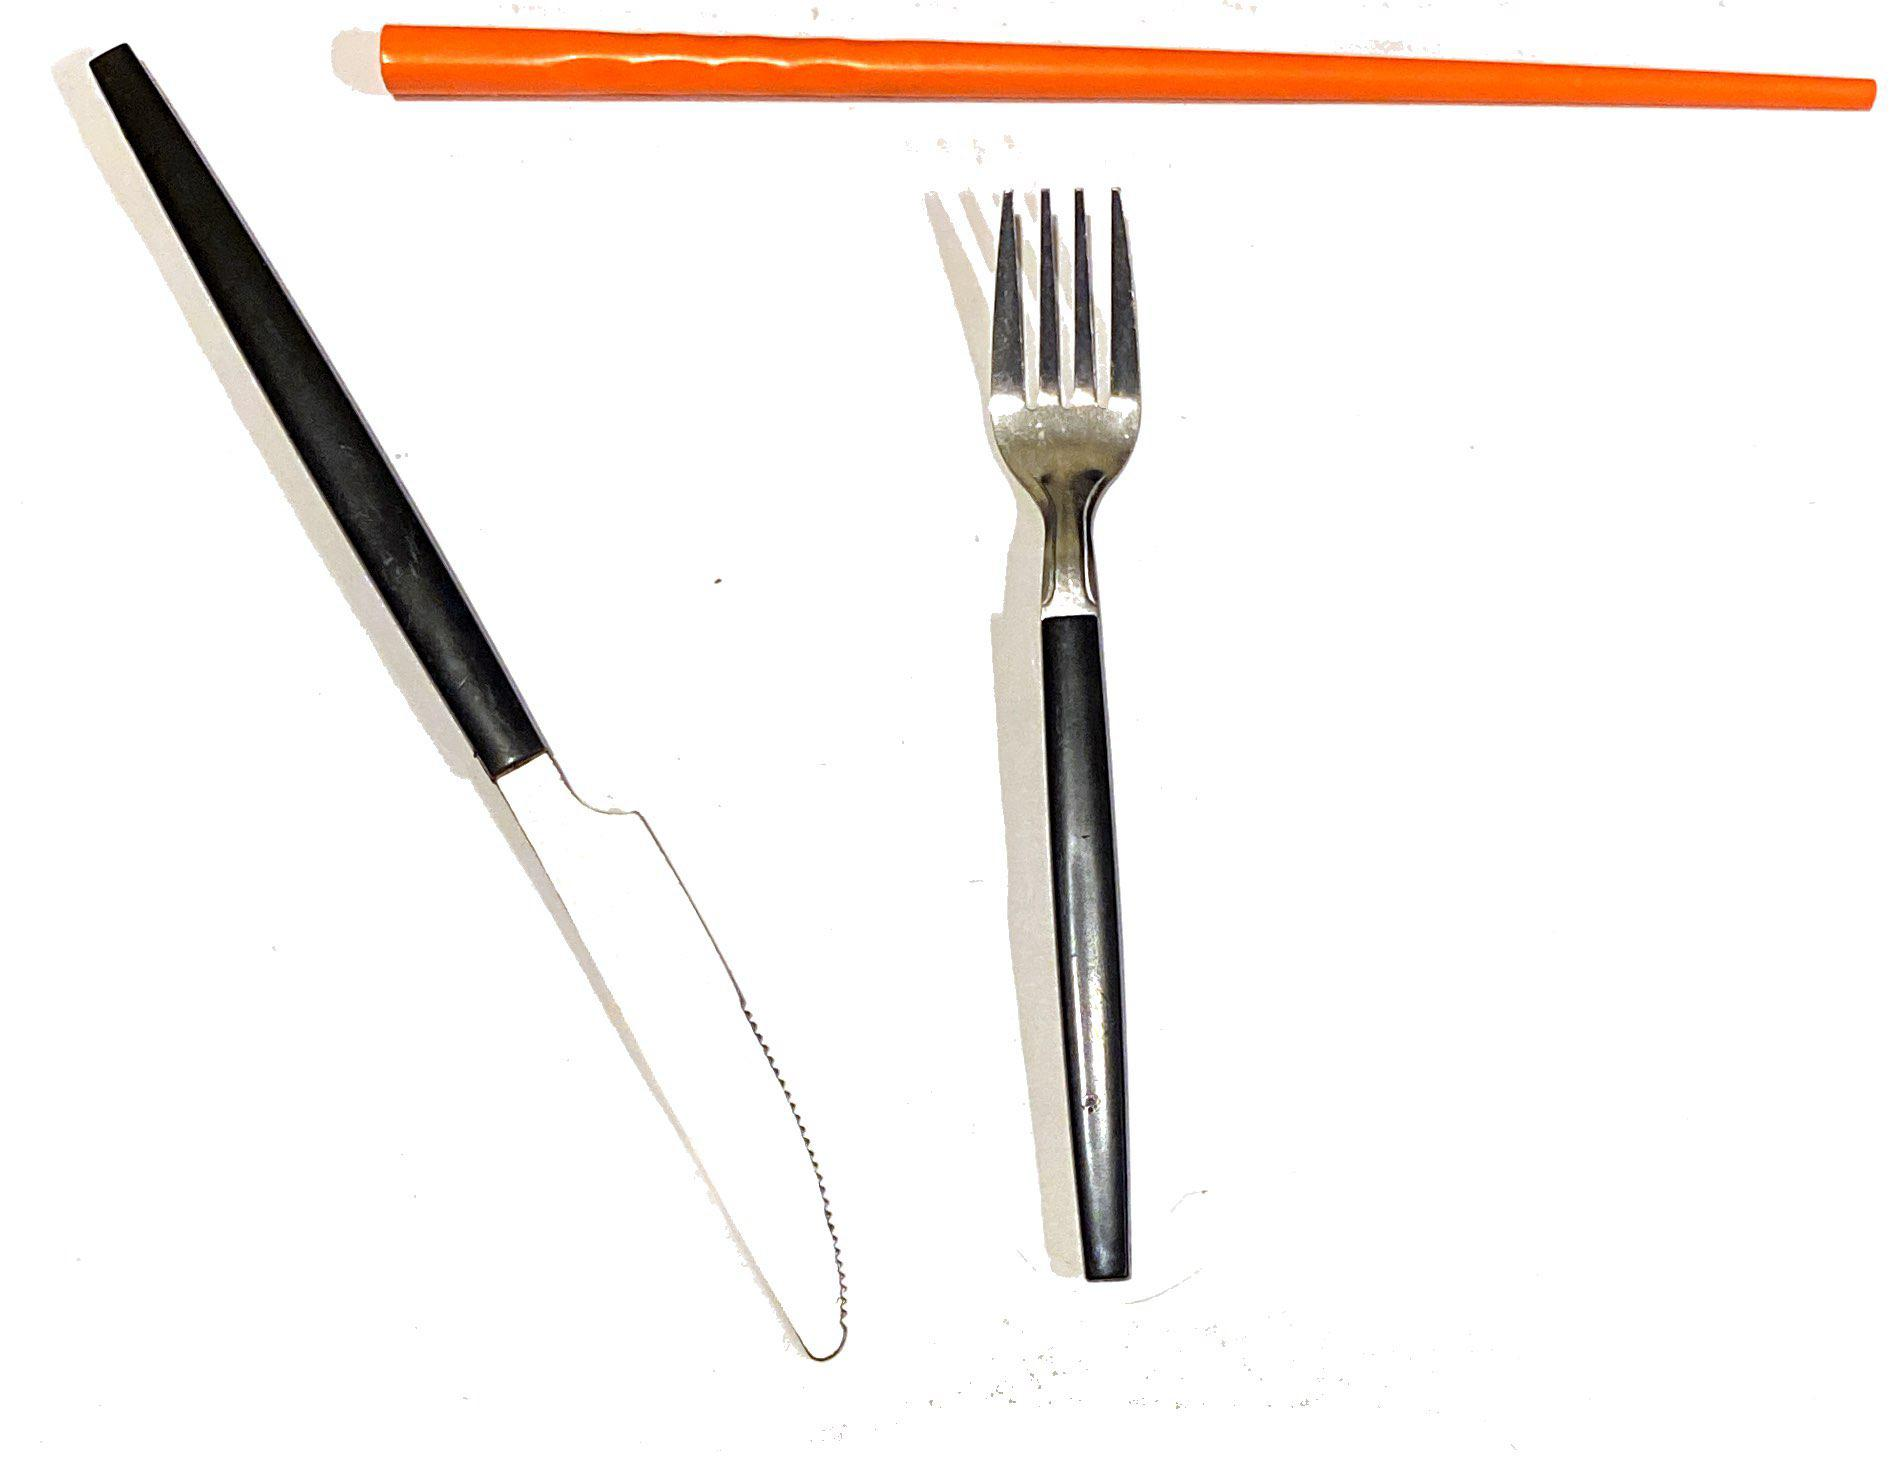Chopstick: (368, 2, 1899, 172)
Fork: (956, 175, 1247, 1366)
Knife: (57, 44, 867, 1380)
